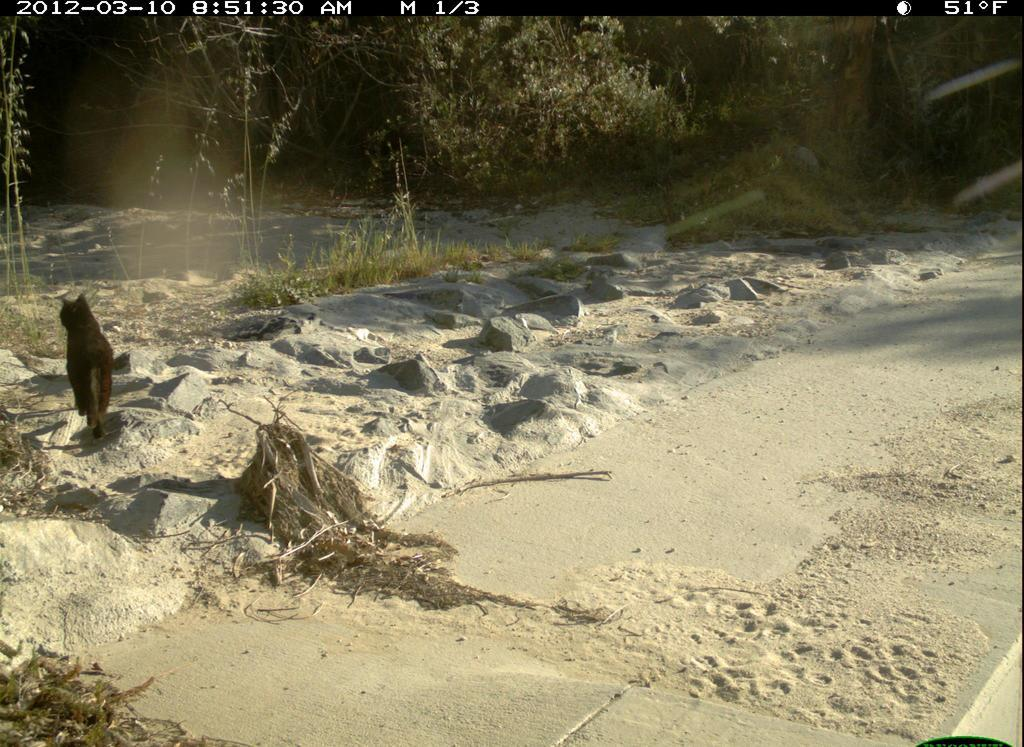cat: (56, 277, 144, 447)
